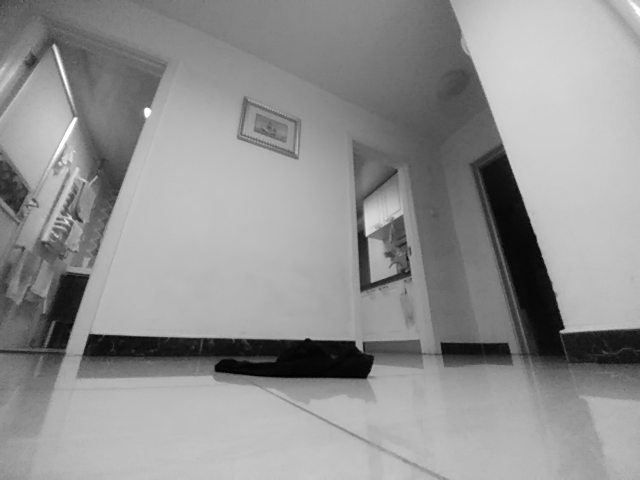others: (213, 338, 376, 382)
